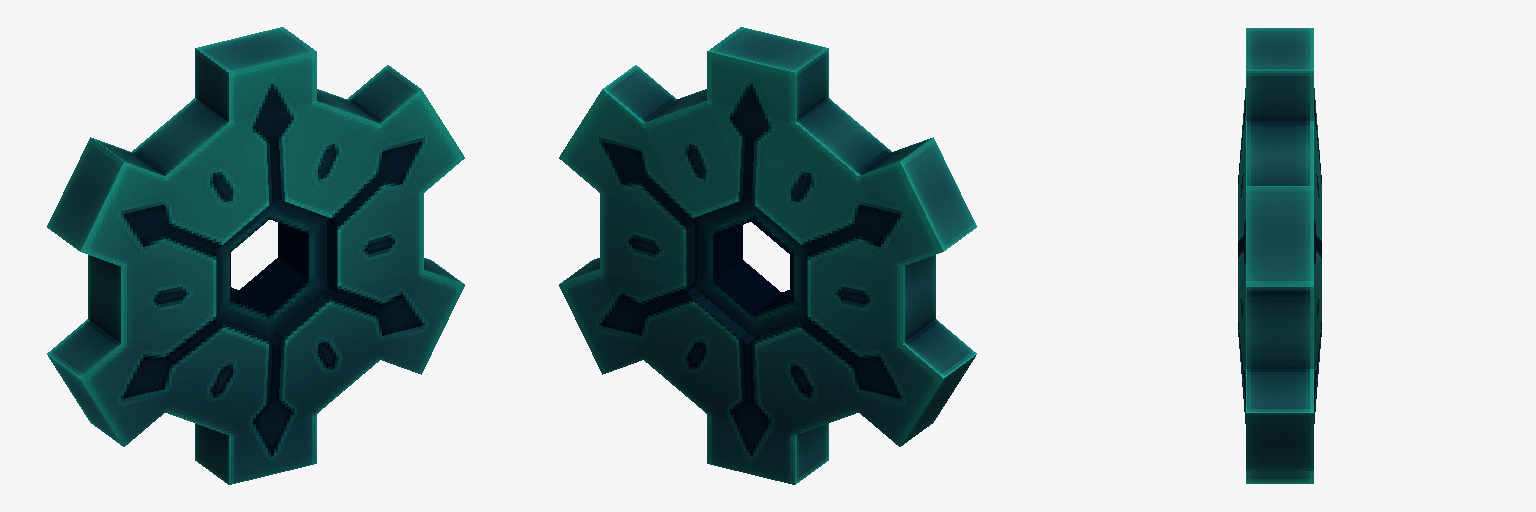
The picture shows the model from 3 angles: view 1: azimuth 30°, elevation 25°; view 2: azimuth 150°, elevation 25°; view 3: azimuth 270°, elevation 25°; orthographic projection.
Parts seen in each view (by area): view 1: GearLow; view 2: GearLow; view 3: GearLow.
Boxes of the visible parts, box(x1,y1,x2,y2) form: GearLow: box(47, 27, 464, 484); GearLow: box(559, 27, 976, 484); GearLow: box(1238, 28, 1321, 483).
Bounding box in the file's own units: 106 × 108 × 20.
Materials: 1 (1 with a texture image).